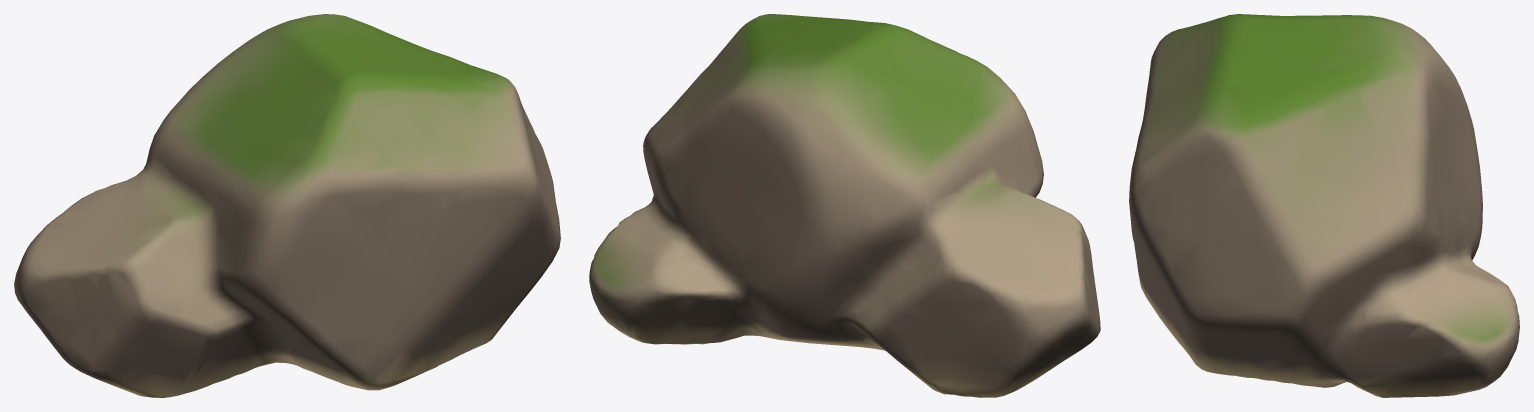
File: rock_b.glb
The picture shows the model from 3 angles, left to right: view 1: azimuth 30°, elevation 25°; view 2: azimuth 150°, elevation 25°; view 3: azimuth 270°, elevation 25°; orthographic projection. The views are drawn at different scales.
Visible parts, largest first — view 1: rock_b_mesh; view 2: rock_b_mesh; view 3: rock_b_mesh.
Boxes of the visible parts, left/top/right/bottom form: rock_b_mesh: left=14, top=14, right=560, bottom=397; rock_b_mesh: left=589, top=14, right=1100, bottom=397; rock_b_mesh: left=1129, top=14, right=1519, bottom=397.
Size of the model in its own units: 3.48 by 1.91 by 2.29.
